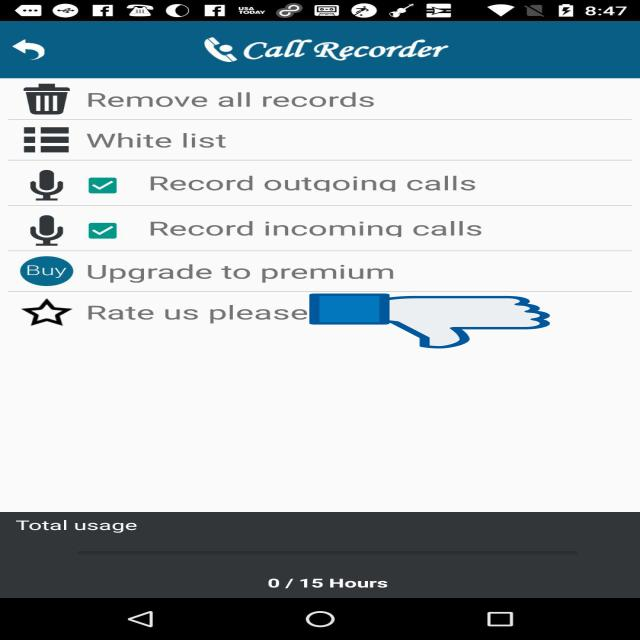obstruction: (309, 292, 550, 350)
